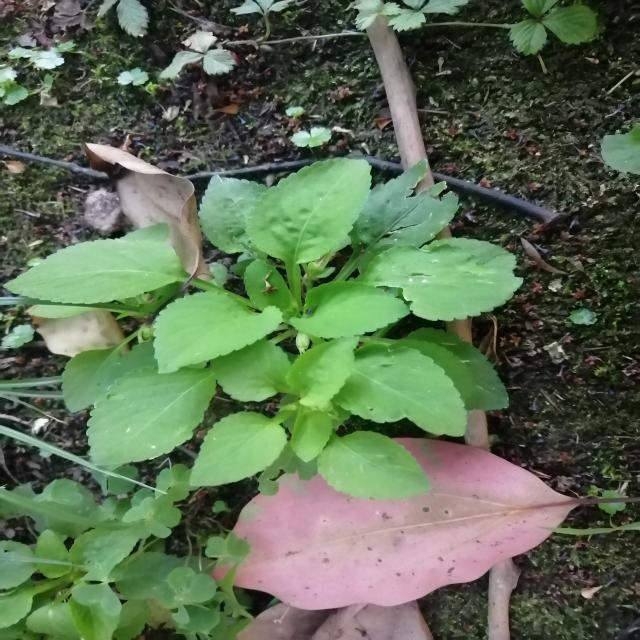Viola: (0, 174, 551, 478)
